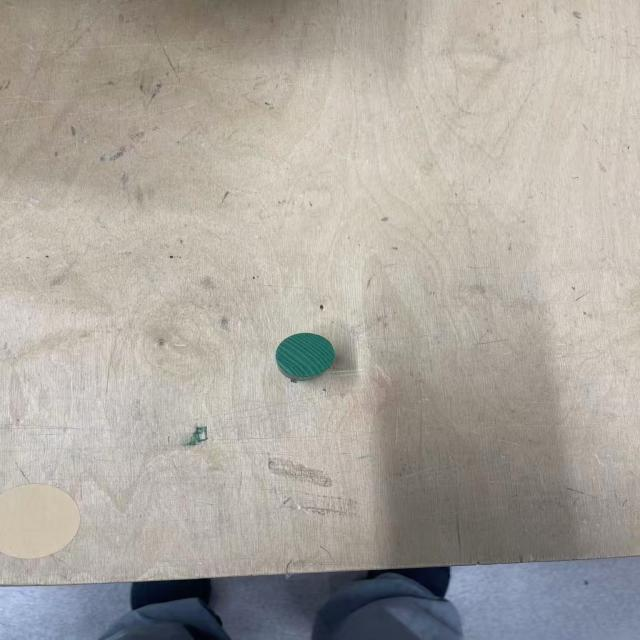green_cylinder: (274, 332, 338, 381)
